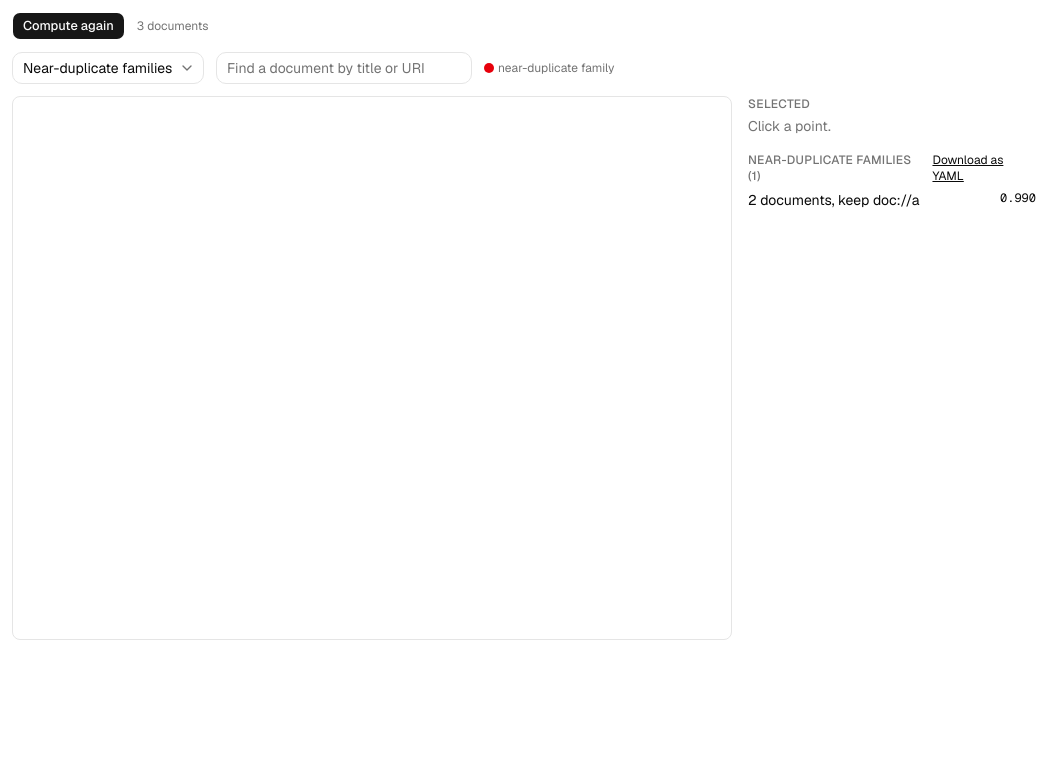
Test: CorpusMap › keeps a selection through a recompute and shows only the new map's scores
What coordinates should you click on to do the following:
click the text "2 documents, keep doc://a"
I would click on:
 (834, 200)
Its box is [748,190,920,210].
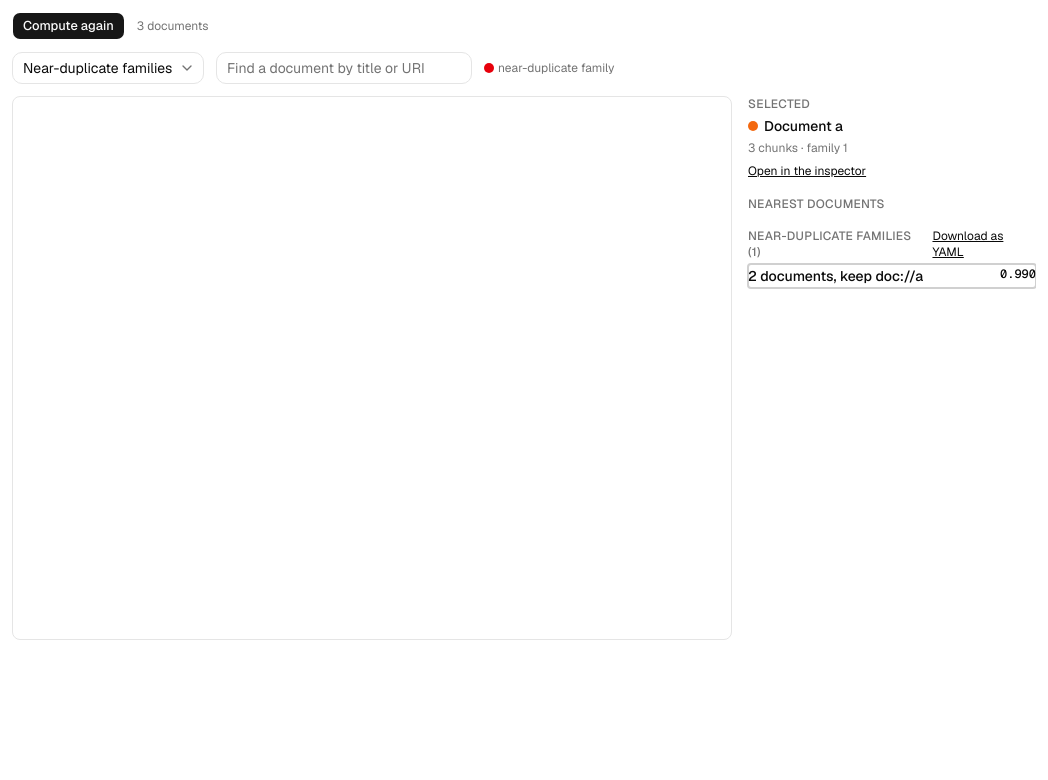
What coordinates should you click on to do the following:
click the button "Compute again"
I would click on:
 (68, 26)
Its box is [12,12,125,40].
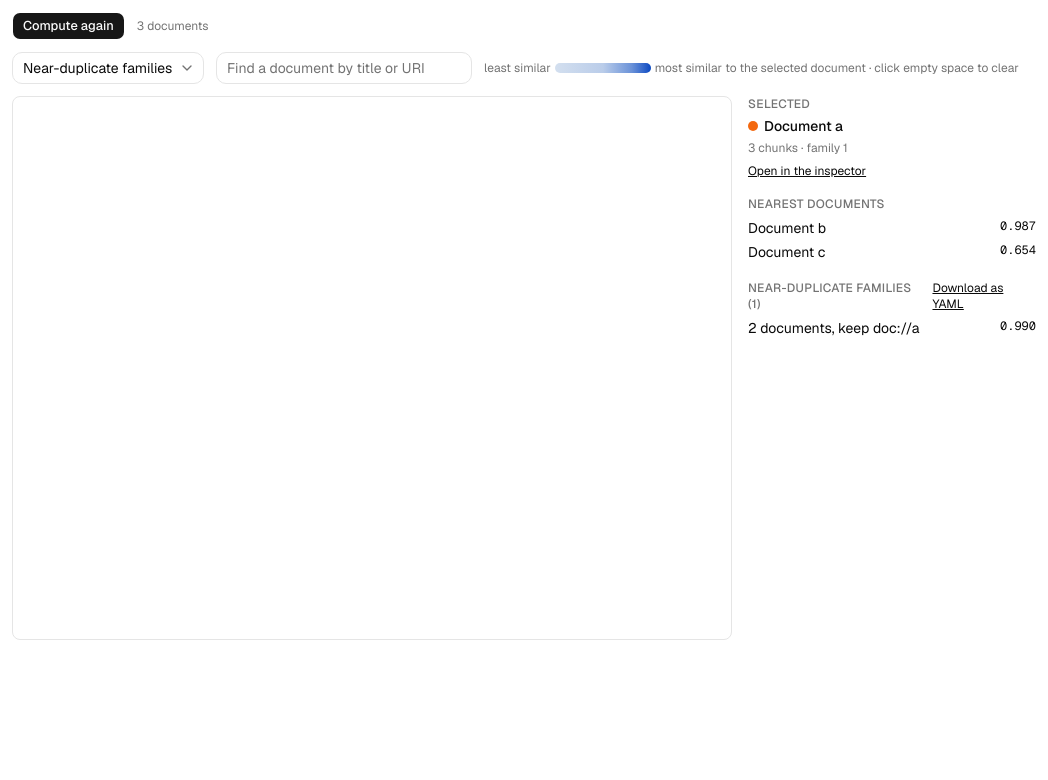
Expected: the text "Document a" is shown, [748,117,843,135]
Expected: the text "0.987" is shown, [1000,218,1036,234]
